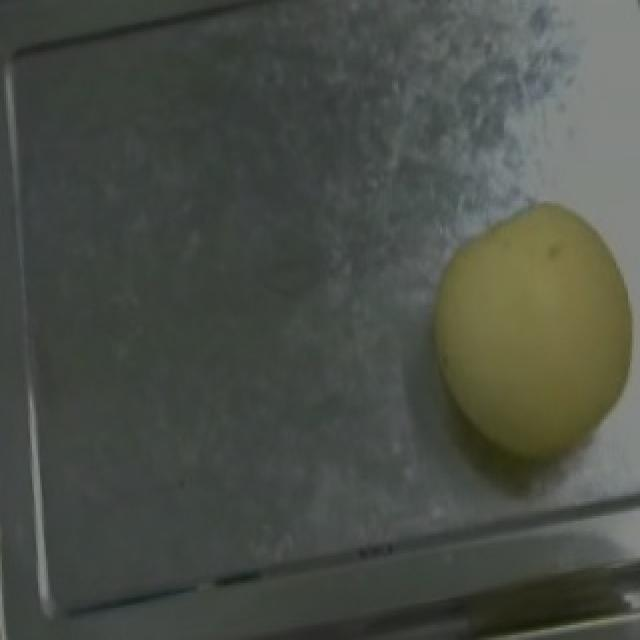Fruit: (406, 181, 640, 481)
